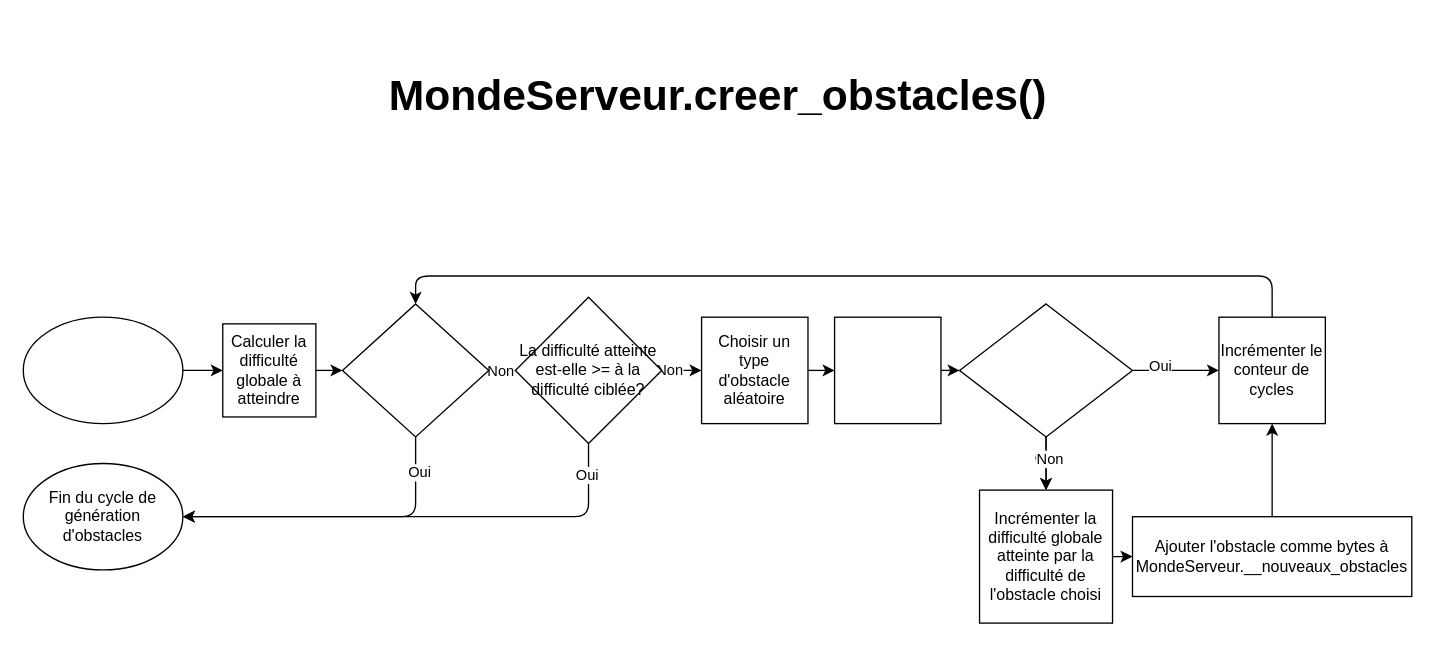
The diagram is 1435 pixels wide and 646 high, and some of its shapes have lost their labels. The centre of each missing label's shape, as x and y in pixels:
"Début d'un cycle d'obstacles" belongs at (x=102, y=370).
"Exécuter le constructeur correspondant" belongs at (x=887, y=370).
"Le constructeur retourne-t-'il None?" belongs at (x=1045, y=370).
"Le conteur est-il >= 48? (MAX)" belongs at (x=415, y=370).
